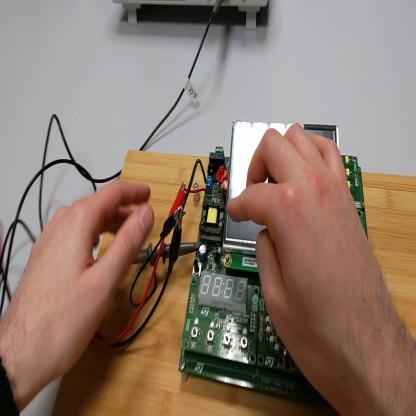hand: (231, 118, 391, 397), (10, 177, 153, 390)
low voltage board: (181, 124, 368, 402)
oscilloscope: (114, 2, 269, 34)
oscilloscope probe tip: (136, 242, 199, 271)
working area: (51, 150, 416, 416)
